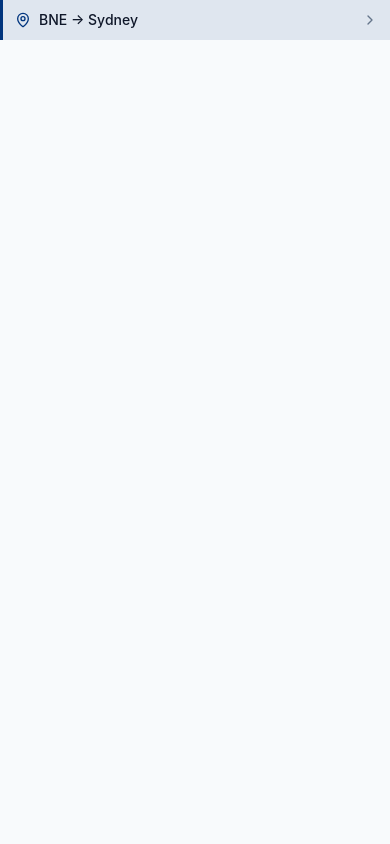
Scenario: TripSummarySheet — verified context › shows route origin → destination when present
The width and height of the screenshot is (390, 844).
Click the button.
click(88, 20)  # box x1=0 y1=0 x2=389 y2=40
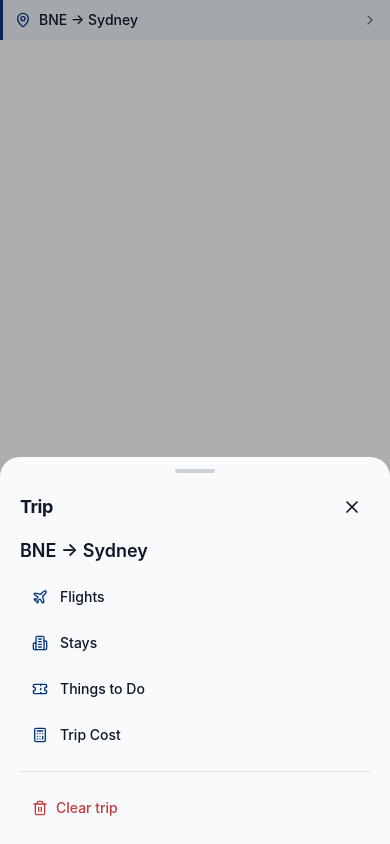
Expected: the text "BNE → Sydney" is shown, x1=20 y1=540 x2=148 y2=561
